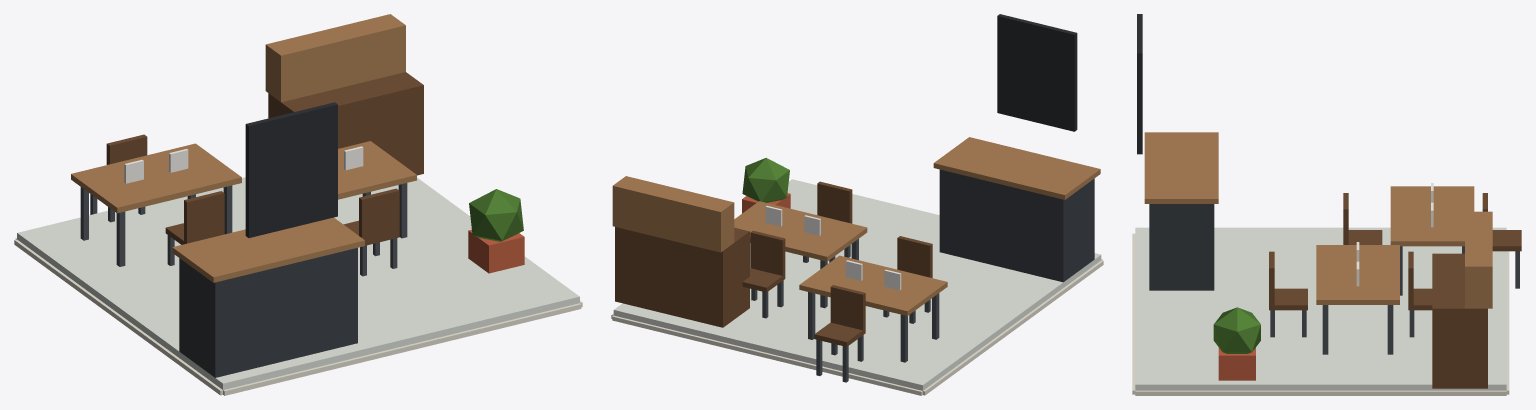
The model's file is interior.restaurant.glb.
The picture shows the model from 3 angles, left to right: view 1: azimuth 30°, elevation 25°; view 2: azimuth 150°, elevation 25°; view 3: azimuth 270°, elevation 25°; orthographic projection. The views are drawn at different scales.
Parts seen in each view (by area): view 1: interior.restaurant; view 2: interior.restaurant; view 3: interior.restaurant.
Boxes of the visible parts, x1,y1,x2,y2 form: interior.restaurant: [14, 14, 582, 395]; interior.restaurant: [611, 14, 1103, 395]; interior.restaurant: [1132, 14, 1521, 395].
Bounding box in the file's own units: 4.15 × 2.8 × 4.19.
